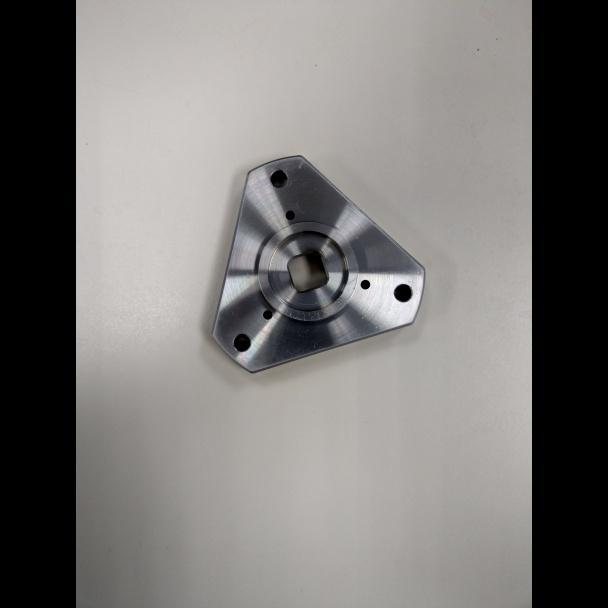hole: (266, 167, 292, 191), (391, 281, 416, 304), (231, 331, 254, 354), (281, 207, 298, 224), (359, 277, 372, 291), (261, 307, 275, 320)
